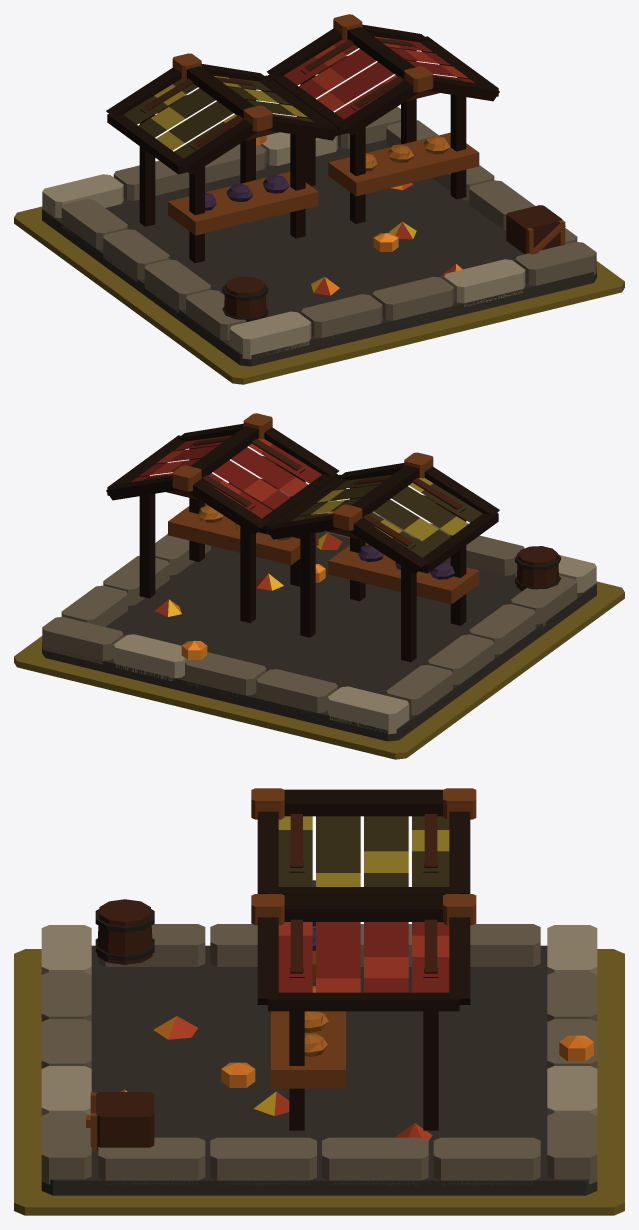
The model's file is market_t4.glb.
The picture shows the model from 3 angles, top to bottom: view 1: azimuth 30°, elevation 25°; view 2: azimuth 150°, elevation 25°; view 3: azimuth 270°, elevation 25°; orthographic projection. The views are drawn at different scales.
Visible parts, largest first — view 1: MMR | market | T04 Architecture.001, MMR | market | Tier 04 Ground.001, MMR | market | T04 Autumn Dressing.001; view 2: MMR | market | T04 Architecture.001, MMR | market | Tier 04 Ground.001, MMR | market | T04 Autumn Dressing.001; view 3: MMR | market | T04 Architecture.001, MMR | market | Tier 04 Ground.001, MMR | market | T04 Autumn Dressing.001.
Boxes of the visible parts, <box> form: MMR | market | T04 Architecture.001: <box>42,14,596,366</box>; MMR | market | Tier 04 Ground.001: <box>14,206,624,384</box>; MMR | market | T04 Autumn Dressing.001: <box>256,135,462,295</box>; MMR | market | T04 Architecture.001: <box>42,413,596,741</box>; MMR | market | Tier 04 Ground.001: <box>14,581,624,759</box>; MMR | market | T04 Autumn Dressing.001: <box>154,533,342,659</box>; MMR | market | T04 Architecture.001: <box>41,788,597,1195</box>; MMR | market | Tier 04 Ground.001: <box>14,949,624,1215</box>; MMR | market | T04 Autumn Dressing.001: <box>121,1016,593,1140</box>.
Size of the model in its own units: 3.3 by 1.43 by 3.3.
Materials: 1 (1 with a texture image).
